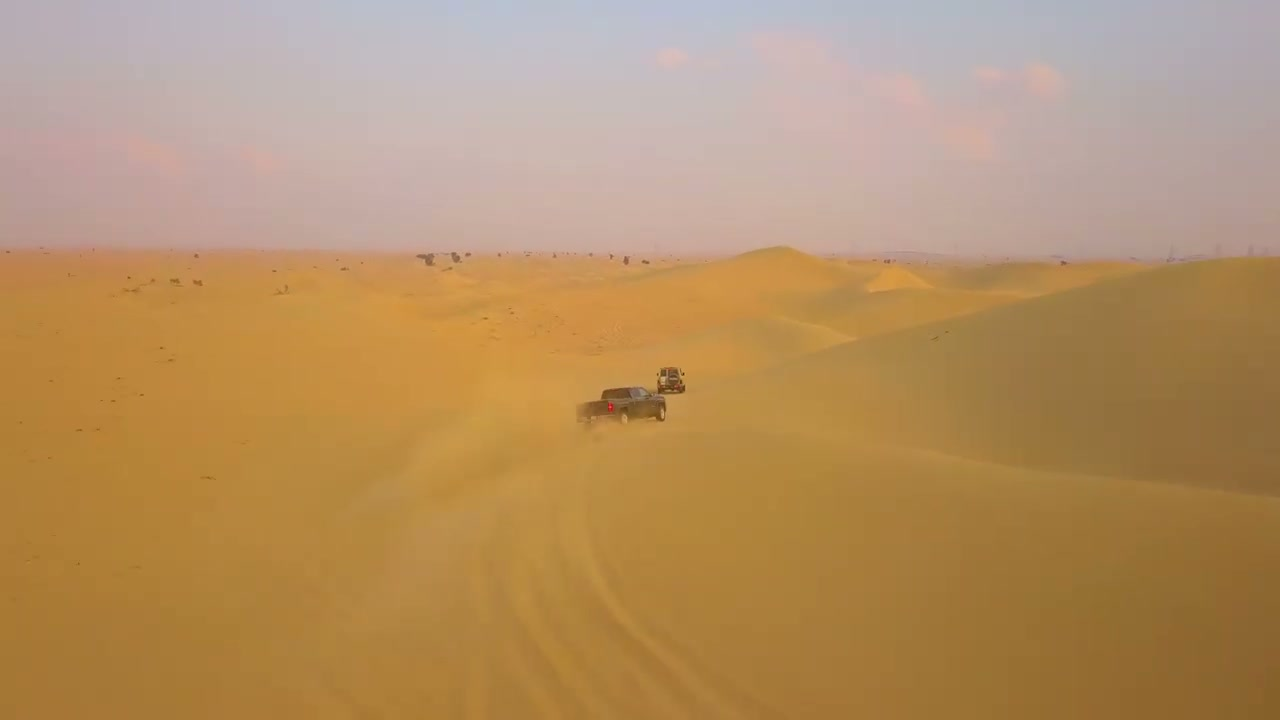vehicle_track: (323, 463, 779, 719), (466, 477, 779, 718), (552, 478, 779, 717), (486, 502, 610, 716)
